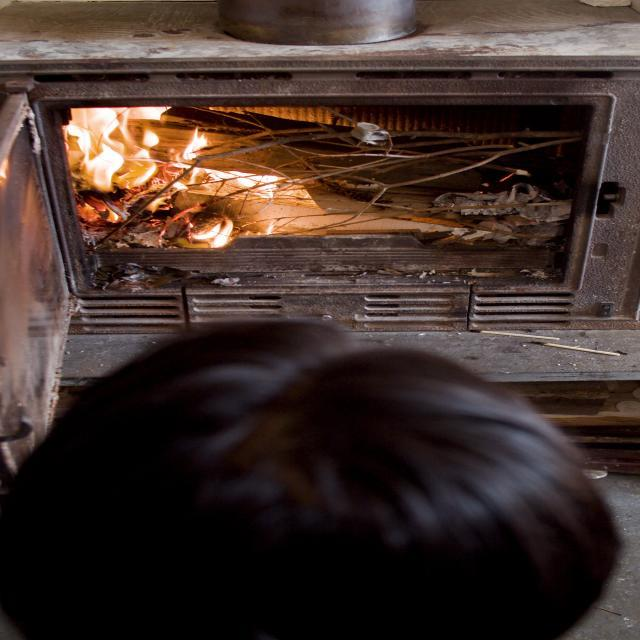Fire: (53, 99, 347, 243)
